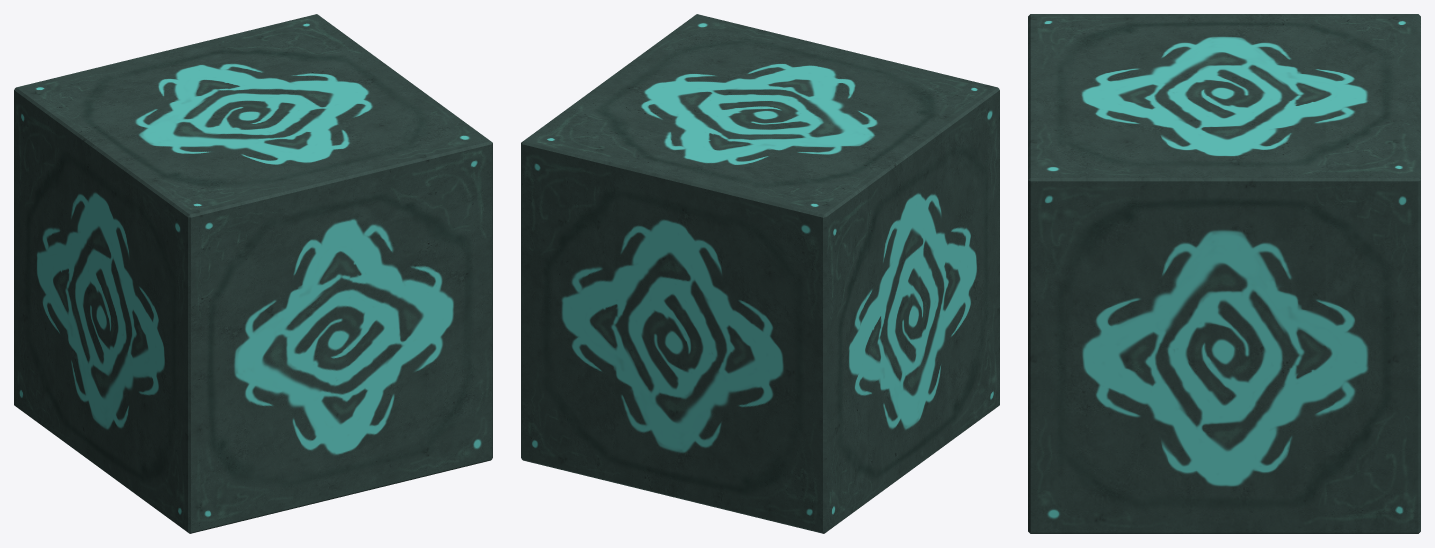
File: LargeCube_.fbx
3 views of the same model, side by side, from view 1: azimuth 30°, elevation 25°; view 2: azimuth 150°, elevation 25°; view 3: azimuth 270°, elevation 25° (orthographic). The views are drawn at different scales.
Visible parts, largest first — view 1: LargeCube1; view 2: LargeCube1; view 3: LargeCube1.
Part boxes in pixels (x1,y1,x2,y2): LargeCube1: [14, 14, 492, 533]; LargeCube1: [521, 14, 999, 533]; LargeCube1: [1028, 14, 1420, 533].
Size of the model in its own units: 35.92 by 35.92 by 35.92.
